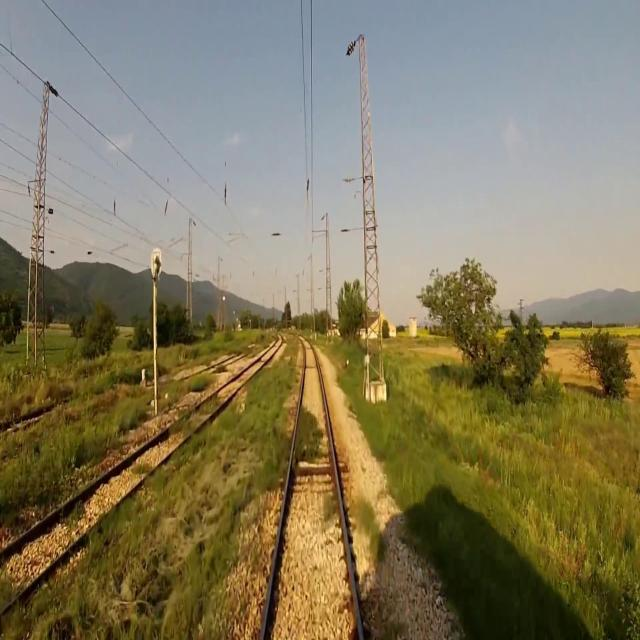rail-track: (264, 340, 358, 639)
